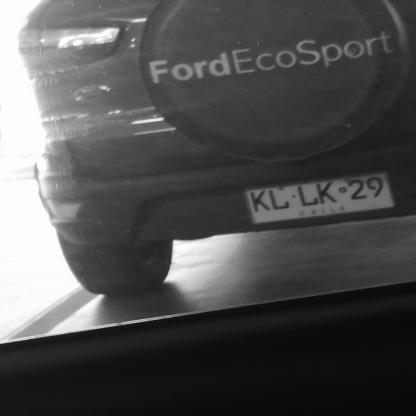Patente: (246, 172, 397, 226)
